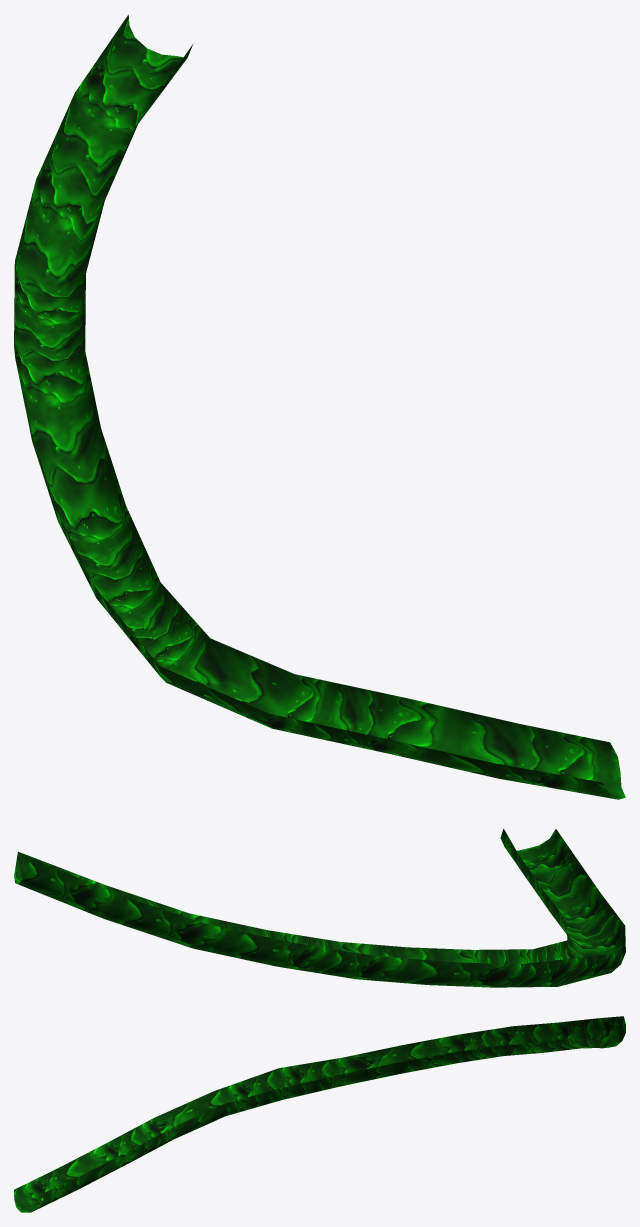
The model's file is MIRKWOOD_OBJECT01.fbx.
3 renders of one model, top to bottom at view 1: azimuth 30°, elevation 25°; view 2: azimuth 150°, elevation 25°; view 3: azimuth 270°, elevation 25°, orthographic. The views are drawn at different scales.
Parts seen in each view (by area): view 1: MIRKWOOD_OBJECT01; view 2: MIRKWOOD_OBJECT01; view 3: MIRKWOOD_OBJECT01.
Part boxes in pixels (<box>): MIRKWOOD_OBJECT01: <box>14,14,625,799</box>; MIRKWOOD_OBJECT01: <box>14,828,625,987</box>; MIRKWOOD_OBJECT01: <box>14,1016,625,1212</box>.
Bounding box in the file's own units: 371056 × 346308 × 920177.
1 material, 1 textured.
